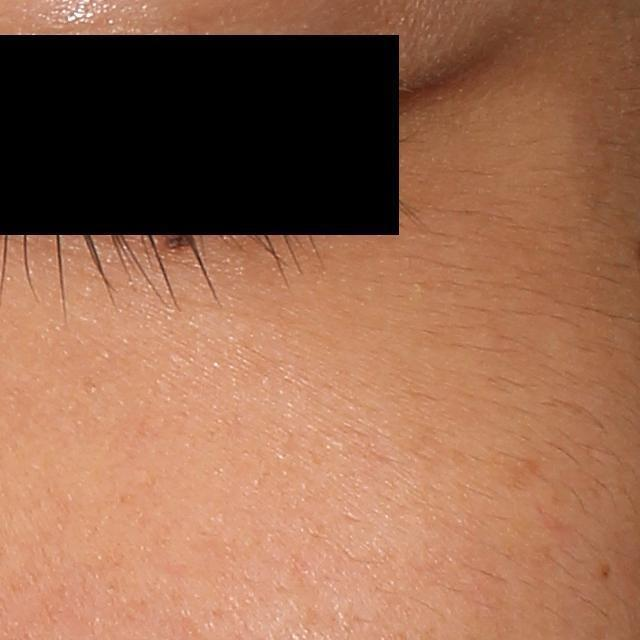nevus: (160, 226, 200, 252)
